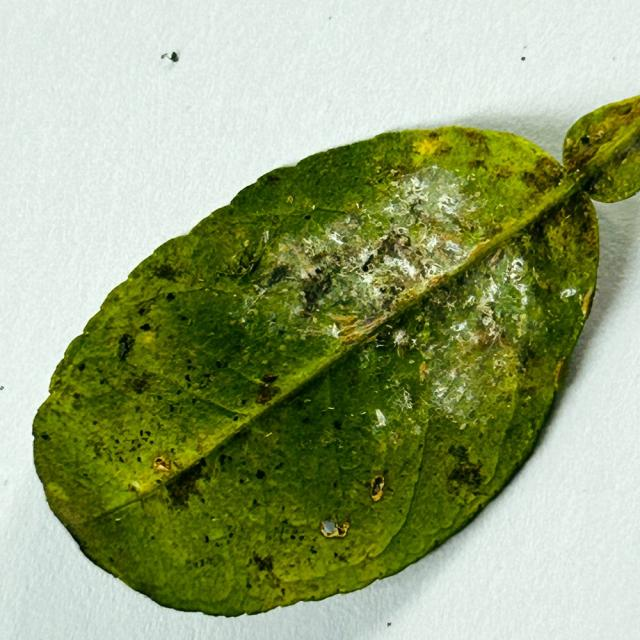Bacterial_Blight: (539, 202, 592, 272), (164, 458, 209, 510), (447, 444, 492, 494), (245, 555, 291, 600), (363, 230, 412, 272), (566, 125, 608, 167), (298, 268, 334, 313), (523, 159, 562, 194), (185, 365, 223, 394), (230, 248, 265, 278), (367, 471, 395, 503), (458, 128, 491, 153), (256, 374, 281, 405), (148, 260, 180, 282), (373, 322, 399, 348), (446, 444, 472, 465), (117, 333, 135, 361), (267, 264, 290, 285), (253, 552, 274, 572), (130, 375, 152, 394), (467, 158, 487, 171), (264, 173, 281, 183), (138, 322, 151, 332), (333, 419, 343, 430), (76, 362, 87, 372)
Lemon: (31, 96, 639, 620)
